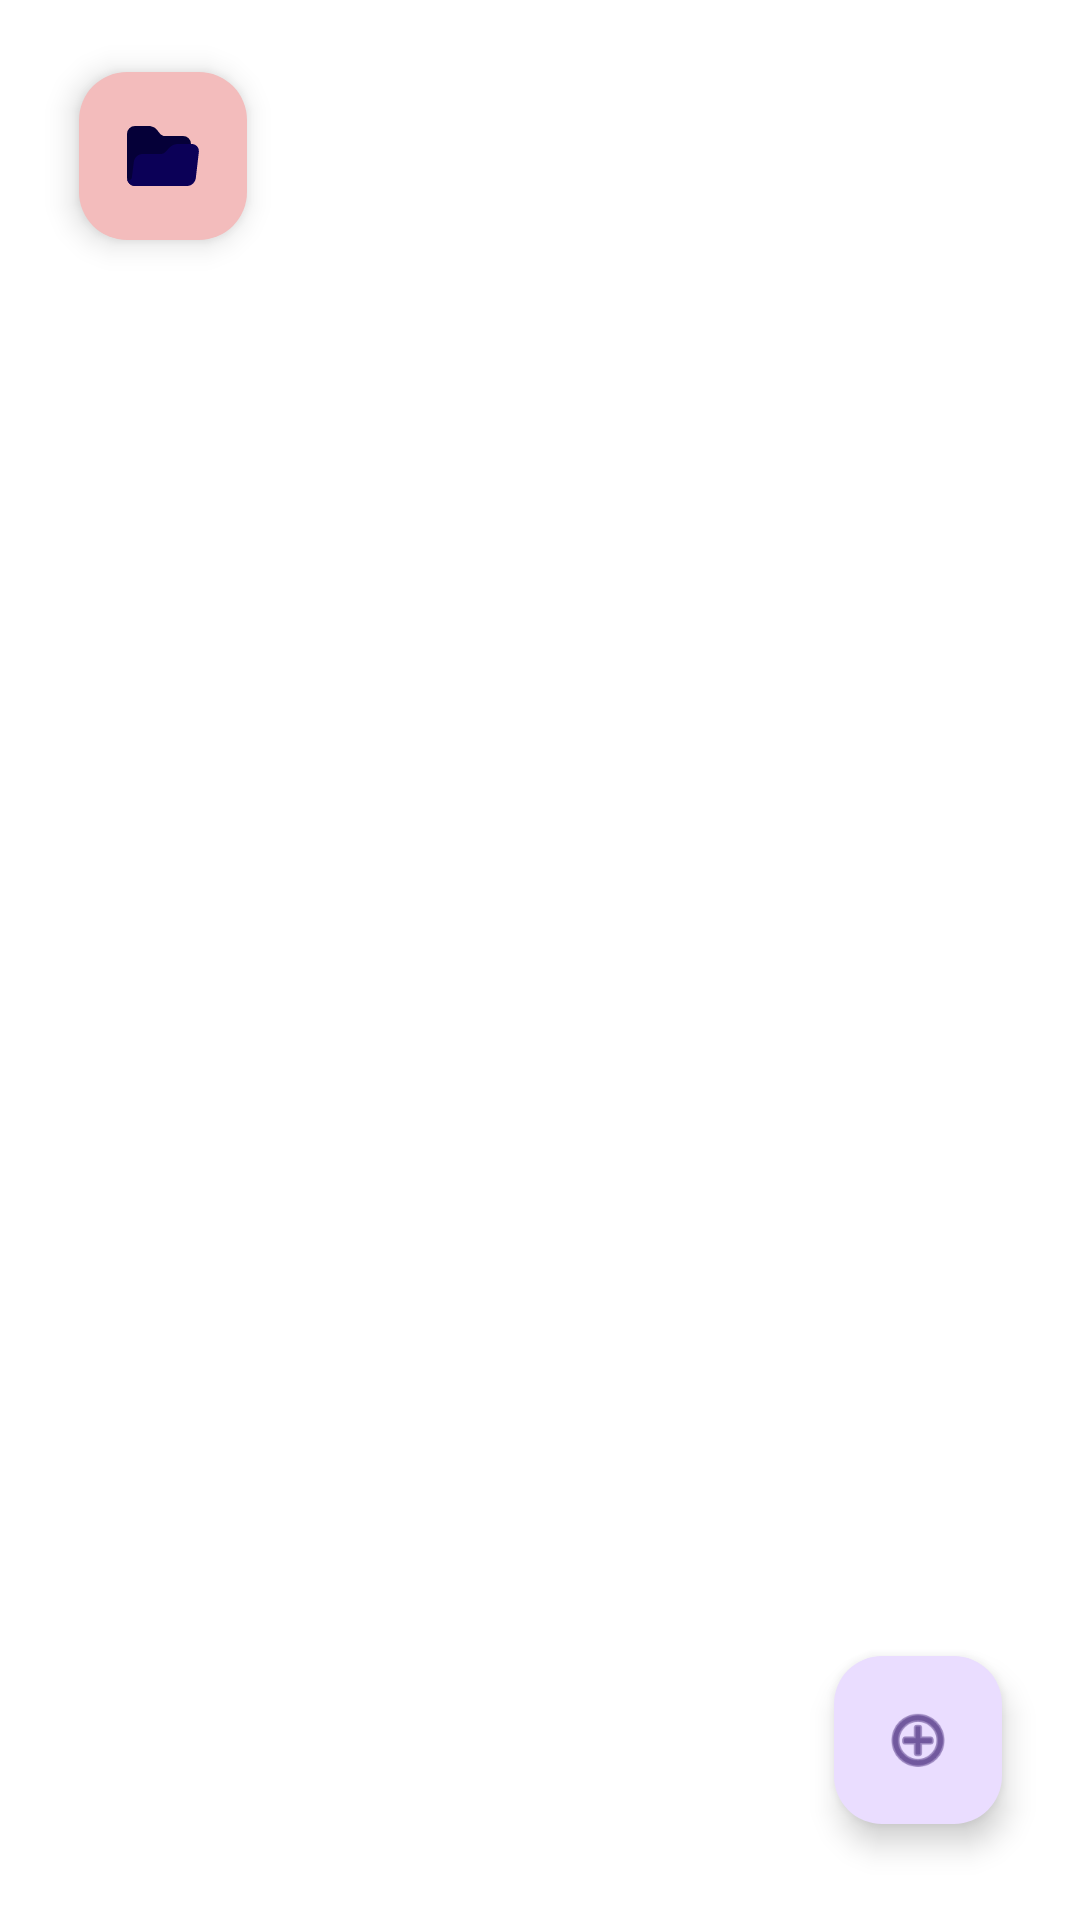

Icons on this 1080px×1920px Android screen, each with its box as rect(x1, y1, x2, y2):
add: rect(834, 1656, 1002, 1824)
open file folder: rect(79, 72, 247, 240)
